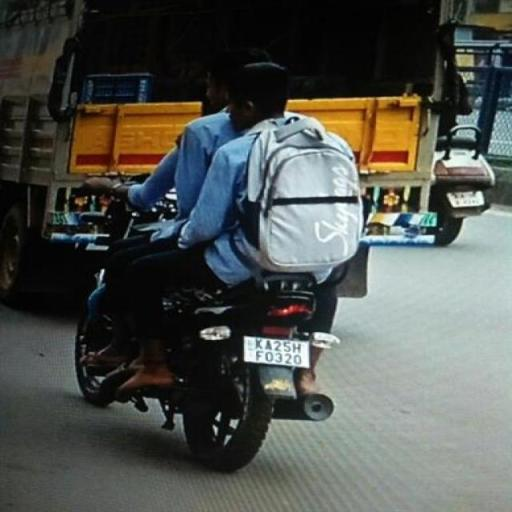tripple riding: (72, 50, 370, 272)
